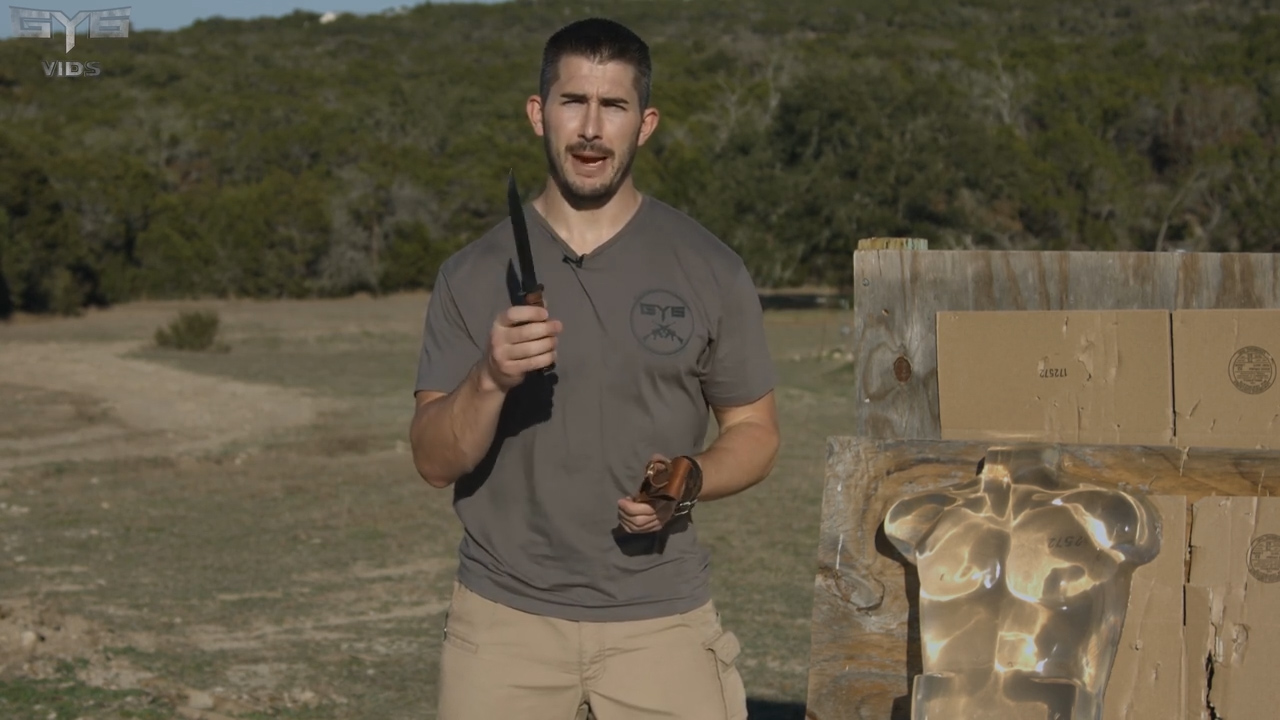knife: (484, 159, 565, 376)
